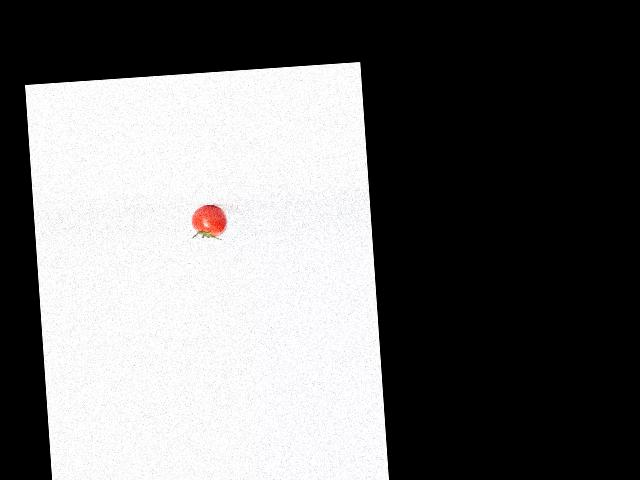tomato: (190, 204, 229, 238)
